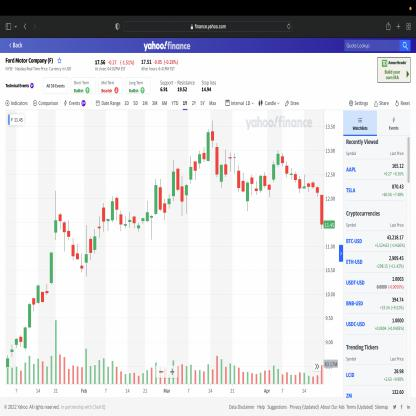Bullish: Engulfing: (202, 128, 210, 165)
Bullish: Kicker: (267, 158, 276, 199)
